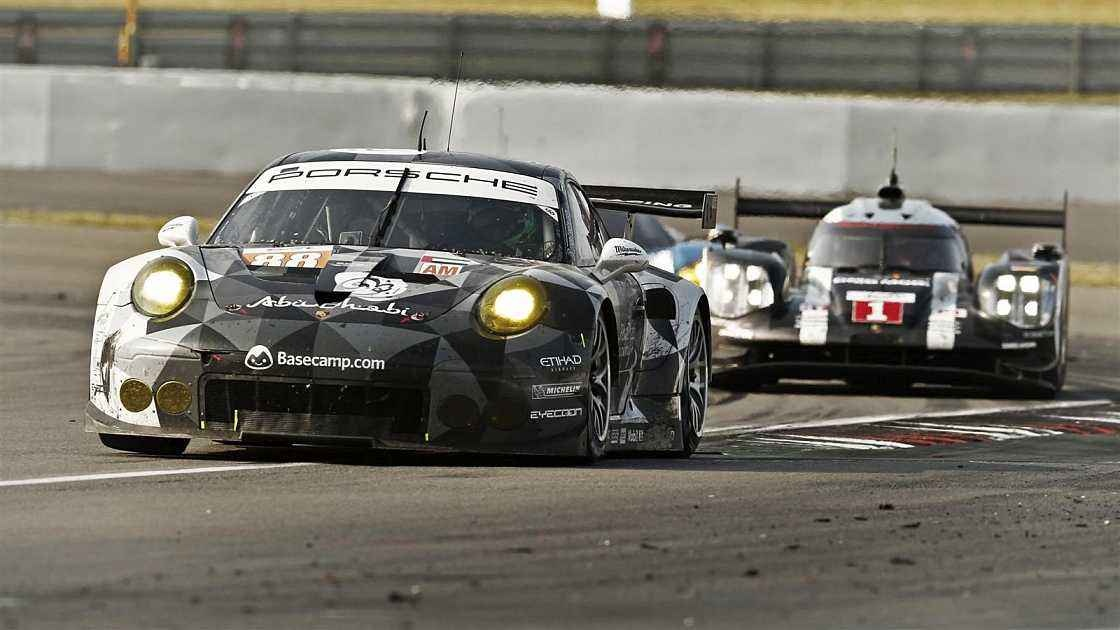racing car: (90, 135, 715, 478), (654, 165, 1059, 385)
